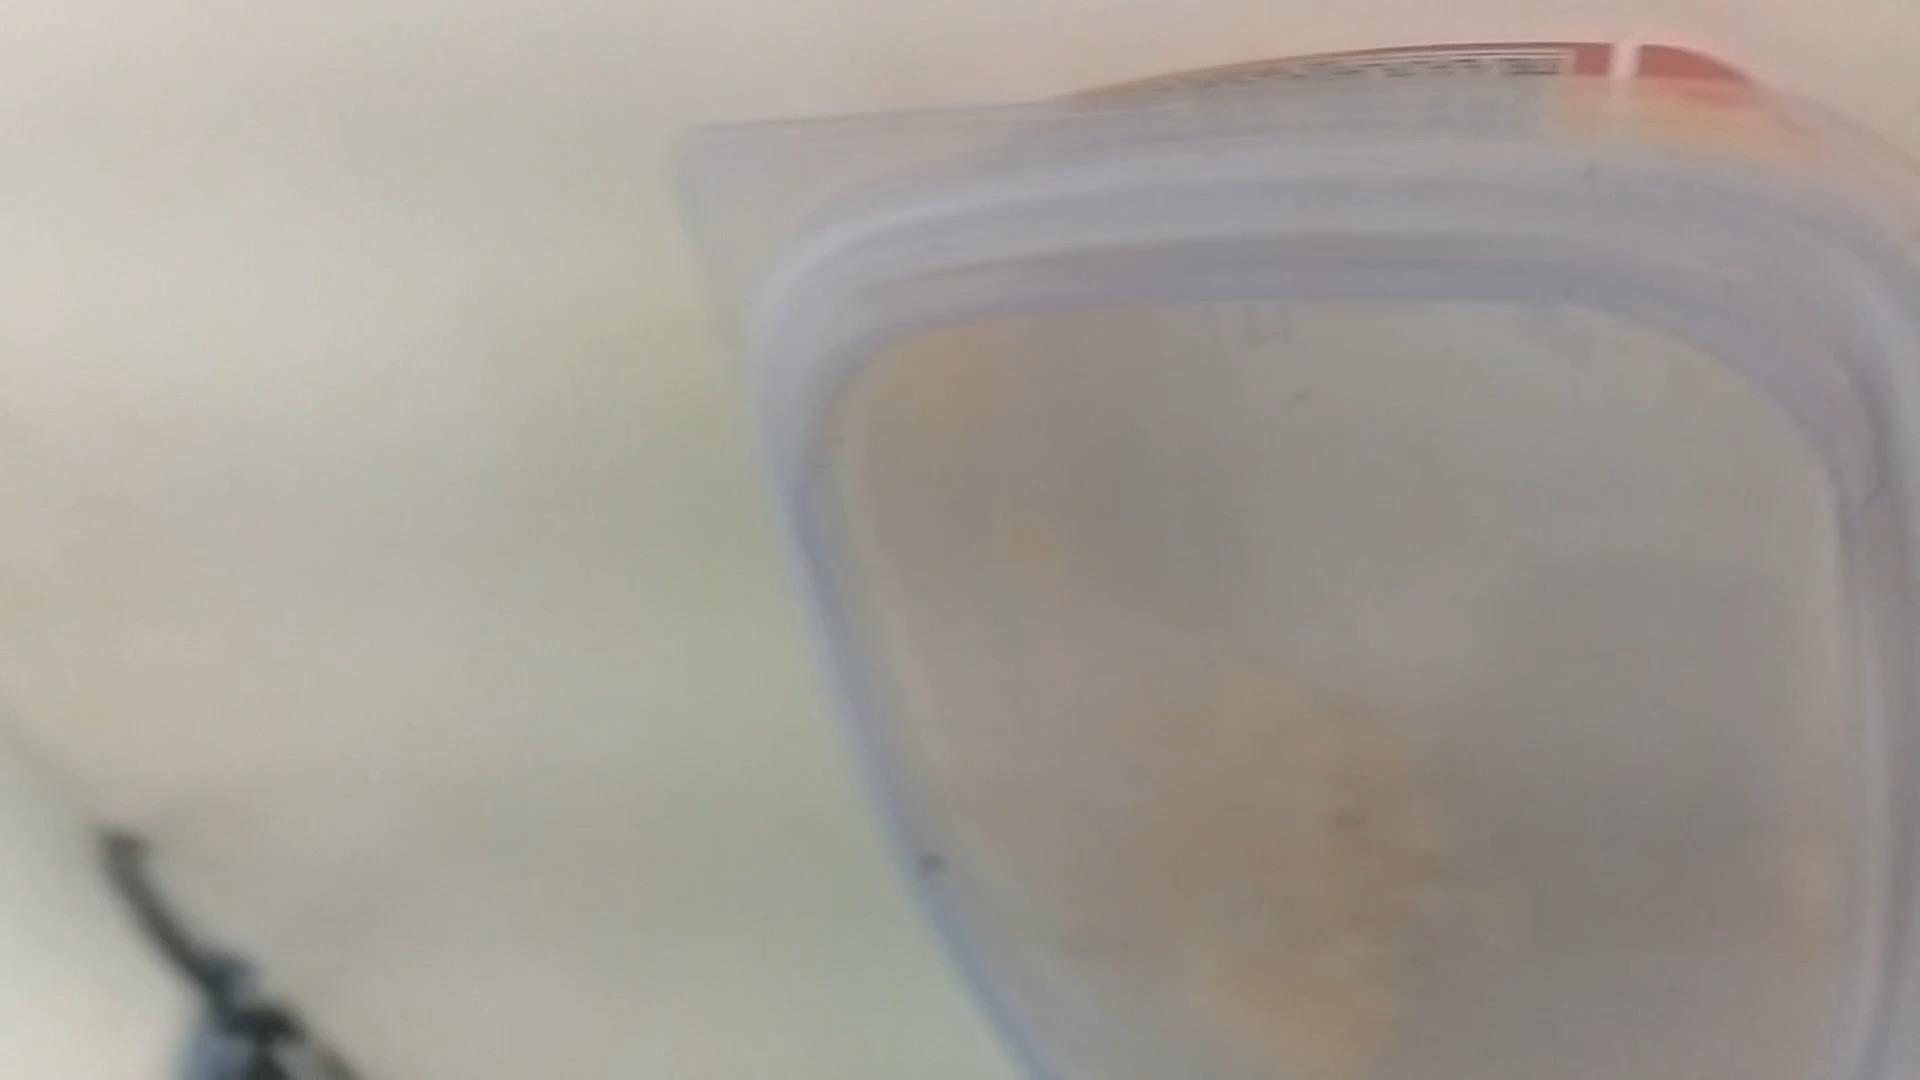butter: (609, 36, 1916, 1079)
